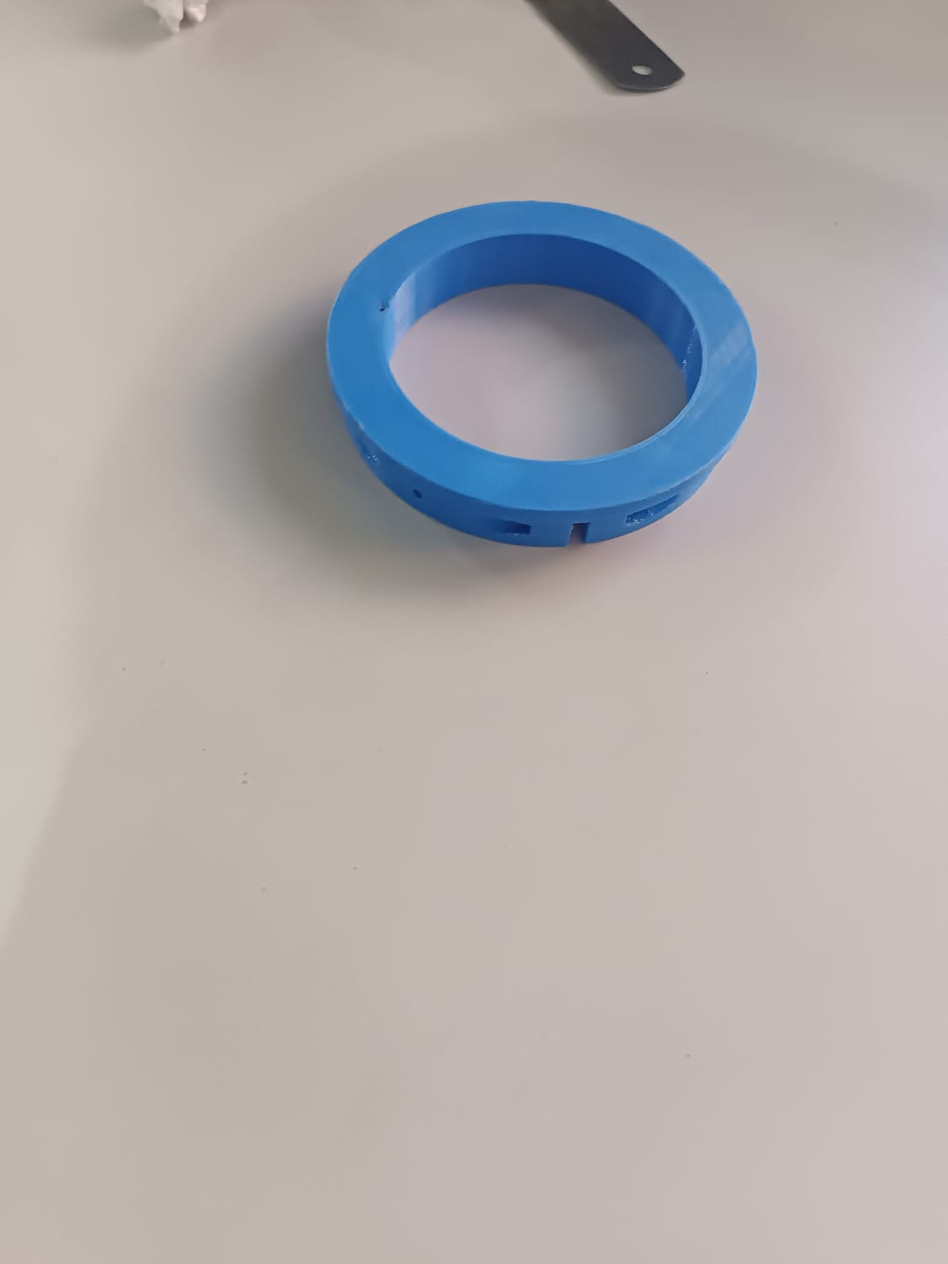Circle: (308, 190, 778, 560)
